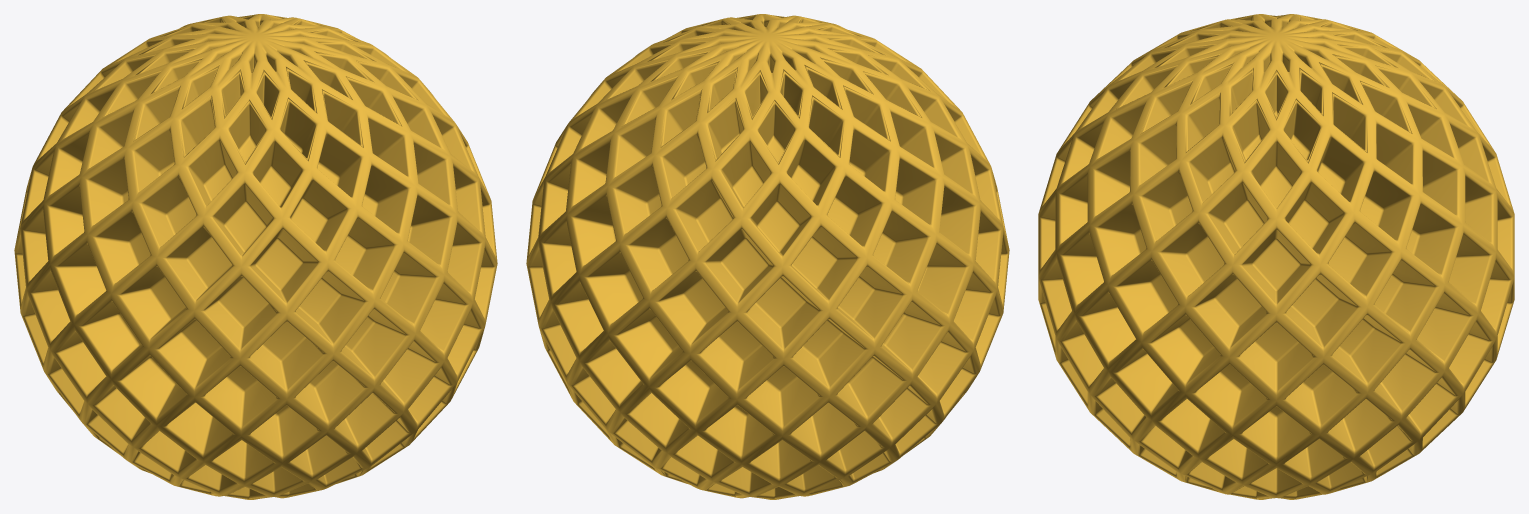
Rendered from sphere_gold_1.glb.
3 views of the same model, side by side, from view 1: azimuth 30°, elevation 25°; view 2: azimuth 150°, elevation 25°; view 3: azimuth 270°, elevation 25° (orthographic).
Visible parts, largest first — view 1: Sphere.019; view 2: Sphere.019; view 3: Sphere.019.
Boxes of the visible parts, x1=… form: Sphere.019: x1=14, y1=14, x2=497, y2=499; Sphere.019: x1=526, y1=14, x2=1009, y2=499; Sphere.019: x1=1038, y1=14, x2=1514, y2=499.
Size of the model in its own units: 1.94 by 1.98 by 1.94.
